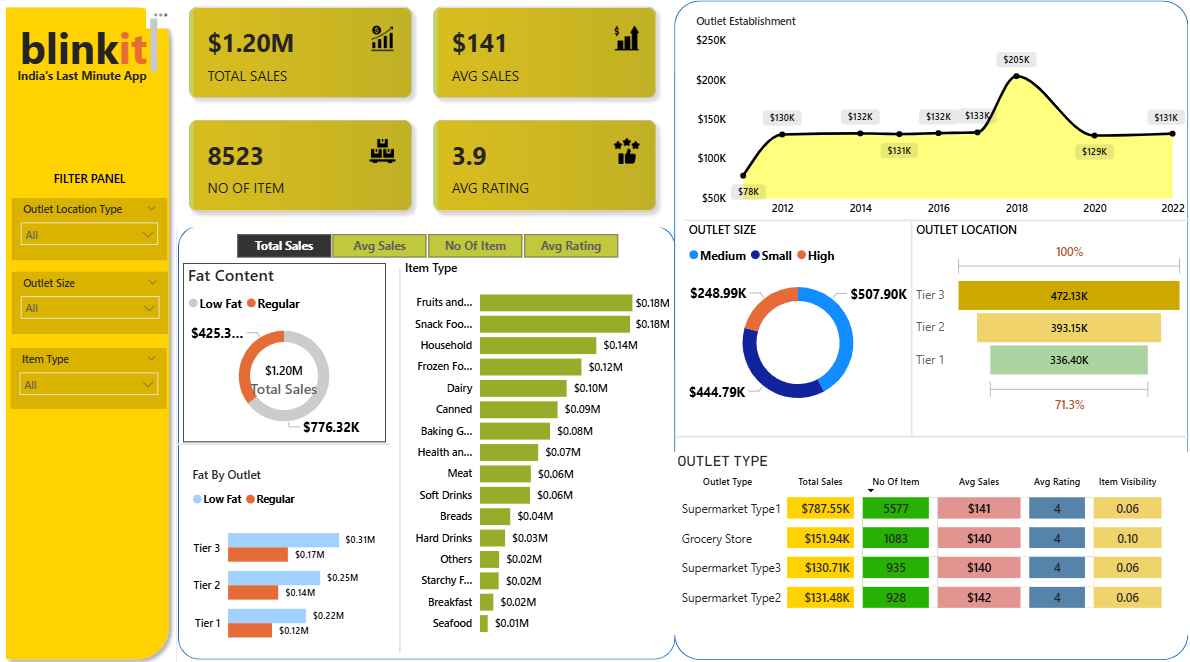

This screenshot's page, from the dashboard's own definition file:
{"tool":"powerbi","page":{"name":"Page 1","canvas":[1400,800],"ordinal":0},"visuals":[{"type":"shape","box":[28.6,24.5,204.5,763.5],"z":0},{"type":"textbox","box":[45,40.9,171.8,72.3],"z":1000},{"type":"textbox","box":[46.4,96.8,170.4,32.7],"z":2000},{"type":"cardVisual","fields":{"Data":["BlinkIT Grocery Data.Total Sales","BlinkIT Grocery Data.Avg Sales","BlinkIT Grocery Data.No Of Item","BlinkIT Grocery Data.Avg Rating"]},"box":[233.1,24.5,569.9,269.9],"z":3000},{"type":"shape","box":[234.5,282.2,568.5,496.3],"z":4000},{"type":"donutChart","title":"Fat Content","fields":{"Y":["BlinkIT Grocery Data.Total Sales"],"Category":["BlinkIT Grocery Data.Item Fat Content"]},"box":[239.9,325.8,231.8,204.5],"z":5000},{"type":"slicer","fields":{"Values":["Metrics.Metrics"]},"box":[275.4,286.3,485.3,39.5],"z":6000},{"type":"cardVisual","fields":{"Data":["BlinkIT Grocery Data.Total Sales"]},"box":[295.8,422.6,120,69.5],"z":7000},{"type":"clusteredBarChart","title":"Fat By Outlet ","fields":{"Y":["BlinkIT Grocery Data.Total Sales"],"Category":["BlinkIT Grocery Data.Outlet Location Type"],"Series":["BlinkIT Grocery Data.Item Fat Content"]},"box":[245.4,559,219.5,219.5],"z":8000},{"type":"shape","box":[231.8,515.3,245.4,34.1],"z":9000},{"type":"shape","box":[1072.5,281.2,30,490],"z":10000},{"type":"barChart","title":"Item Type","fields":{"Y":["BlinkIT Grocery Data.Total Sales"],"Category":["BlinkIT Grocery Data.Item Type"]},"box":[488.8,321.2,312.5,441.2],"z":11000},{"type":"shape","box":[801.2,25,587.5,753.8],"z":12000},{"type":"lineChart","title":"Outlet Establishment ","fields":{"Y":["BlinkIT Grocery Data.Total Sales"],"Category":["BlinkIT Grocery Data.Outlet Establishment Year"]},"box":[821.2,41.2,568.8,240],"z":13000},{"type":"shape","box":[812.5,260.4,587.6,34.1],"z":14000},{"type":"donutChart","title":"OUTLET SIZE","fields":{"Y":["BlinkIT Grocery Data.Total Sales"],"Category":["BlinkIT Grocery Data.Outlet Size"]},"box":[812.5,278.1,260.4,229],"z":15000},{"type":"shape","box":[473.5,331.7,30,440.4],"z":16000},{"type":"shape","box":[1056.6,278.1,31.4,246.8],"z":17000},{"type":"funnel","title":"OUTLET LOCATION","fields":{"Y":["Sum(BlinkIT Grocery Data.Sales)"],"Category":["BlinkIT Grocery Data.Outlet Location Type"]},"box":[1072.9,278.1,316.3,225],"z":18000},{"type":"shape","box":[803,507.2,587.6,34.1],"z":19000},{"type":"pivotTable","title":"OUTLET TYPE","fields":{"Rows":["BlinkIT Grocery Data.Outlet Type"],"Values":["BlinkIT Grocery Data.Total Sales","BlinkIT Grocery Data.No Of Item","BlinkIT Grocery Data.Avg Sales","BlinkIT Grocery Data.Avg Rating","Avg(BlinkIT Grocery Data.Item Visibility)"]},"box":[800.3,541.2,589,210],"z":20000},{"type":"slicer","fields":{"Values":["BlinkIT Grocery Data.Outlet Location Type"]},"box":[43.6,250.9,177.2,70.9],"z":21000},{"type":"cardVisual","fields":{"Data":["BlinkIT Grocery Data.Total Sales","BlinkIT Grocery Data.Avg Sales","BlinkIT Grocery Data.No Of Item","BlinkIT Grocery Data.Avg Rating"]},"box":[230.4,16.4,569.9,269.9],"z":22000},{"type":"slicer","fields":{"Values":["BlinkIT Grocery Data.Outlet Size"]},"box":[43.6,335.4,178.6,70.9],"z":23000},{"type":"slicer","fields":{"Values":["BlinkIT Grocery Data.Item Type"]},"box":[42.3,422.6,178.6,69.5],"z":24000},{"type":"shape","box":[65.4,205.9,135,45],"z":25000}]}

Visuals, with their boxes in screenshot pixels (x1, y1, x2, y2), scaled from the page's 1400x800 canvas onto the 1190x662 screenshot:
shape: <box>24,20,198,652</box>
textbox: <box>38,34,184,94</box>
textbox: <box>39,80,184,107</box>
cardVisual - BlinkIT Grocery Data.Total Sales x BlinkIT Grocery Data.Avg Sales: <box>198,20,683,244</box>
shape: <box>199,234,683,644</box>
"Fat Content" donutChart: <box>204,270,401,439</box>
slicer - Metrics.Metrics: <box>234,237,647,270</box>
cardVisual - BlinkIT Grocery Data.Total Sales: <box>251,350,353,407</box>
"Fat By Outlet " clusteredBarChart: <box>209,463,395,644</box>
shape: <box>197,426,406,455</box>
shape: <box>912,233,937,638</box>
"Item Type" barChart: <box>415,266,681,631</box>
shape: <box>681,21,1180,644</box>
"Outlet Establishment " lineChart: <box>698,34,1182,233</box>
shape: <box>691,215,1189,244</box>
"OUTLET SIZE" donutChart: <box>691,230,912,420</box>
shape: <box>402,274,428,639</box>
shape: <box>898,230,925,434</box>
"OUTLET LOCATION" funnel: <box>912,230,1181,416</box>
shape: <box>683,420,1182,448</box>
"OUTLET TYPE" pivotTable: <box>680,448,1181,622</box>
slicer - BlinkIT Grocery Data.Outlet Location Type: <box>37,208,188,266</box>
cardVisual - BlinkIT Grocery Data.Total Sales x BlinkIT Grocery Data.Avg Sales: <box>196,14,680,237</box>
slicer - BlinkIT Grocery Data.Outlet Size: <box>37,278,189,336</box>
slicer - BlinkIT Grocery Data.Item Type: <box>36,350,188,407</box>
shape: <box>56,170,170,208</box>
